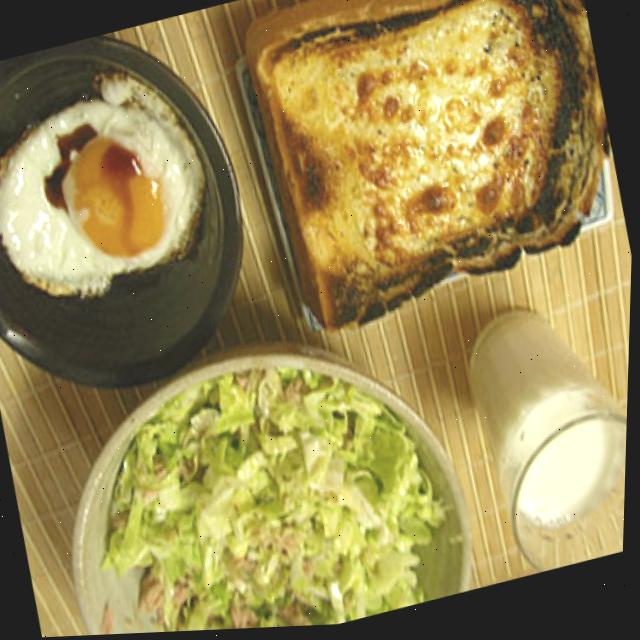蔬菜料理: (44, 307, 502, 638)
面包点心: (235, 0, 628, 331)
鸡蛋料理: (0, 10, 285, 407)
